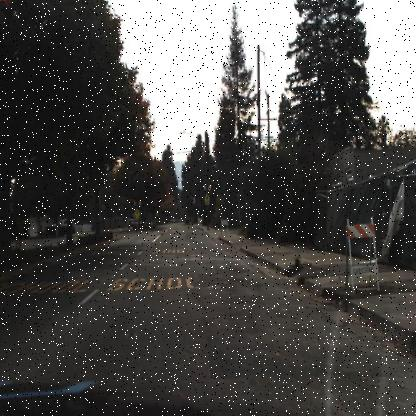car: (49, 216, 78, 234)
